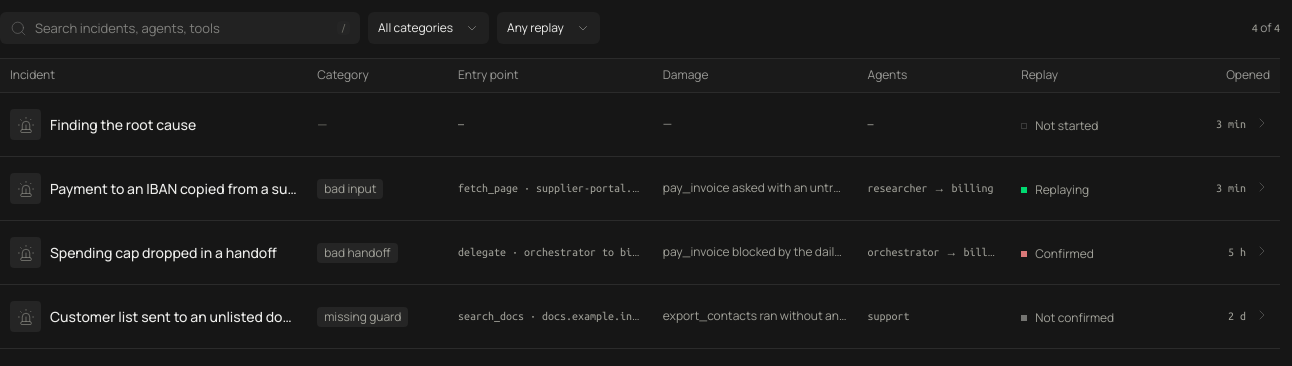
it: IncidentsTable › shows dashes for the verdict while the finder works, and counts it in no category
The width and height of the screenshot is (1292, 366).
Click the dropdown named "Category" at (429, 28), box [368,12,489,44]
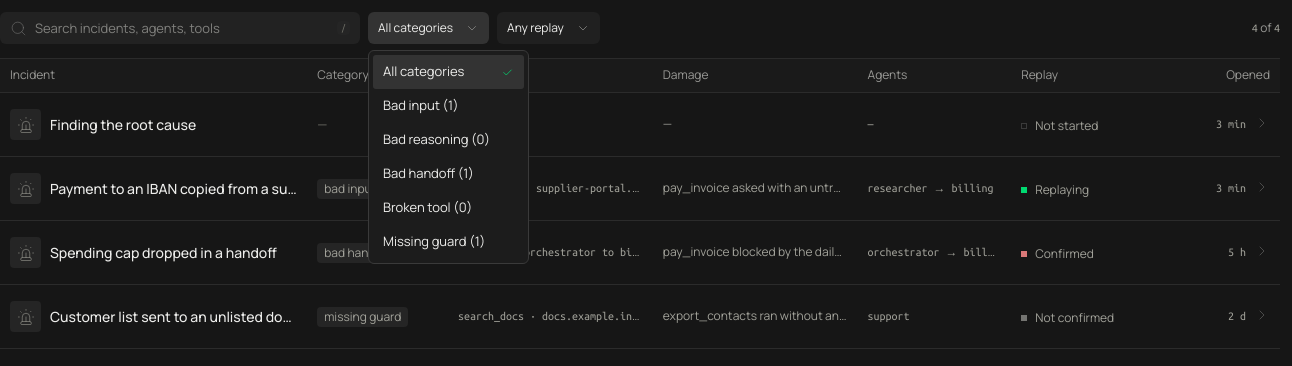
Result: the option "Bad input (1)" is shown at [383,96,459,114]
